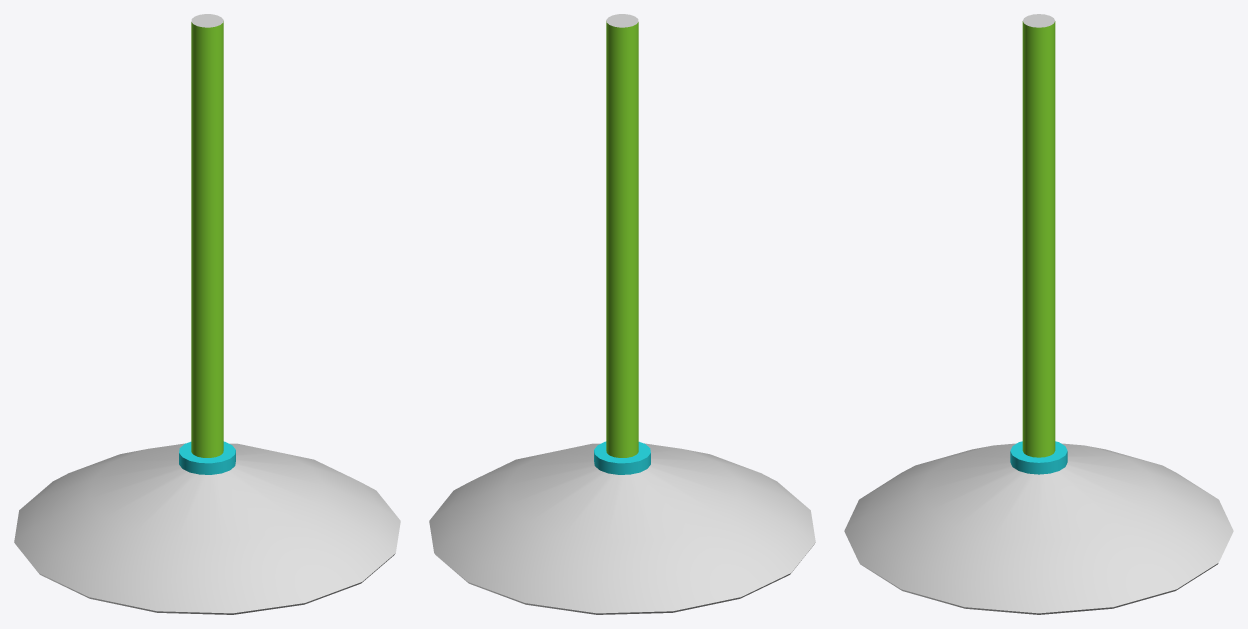
Rendered from Light.fbx.
The picture shows the model from 3 angles, left to right: view 1: azimuth 30°, elevation 25°; view 2: azimuth 150°, elevation 25°; view 3: azimuth 270°, elevation 25°; orthographic projection.
Parts seen in each view (by area): view 1: Lamp; view 2: Lamp; view 3: Lamp.
Boxes of the visible parts, x1=… form: Lamp: x1=14, y1=14, x2=400, y2=614; Lamp: x1=429, y1=14, x2=815, y2=614; Lamp: x1=844, y1=14, x2=1233, y2=614.
Bounding box in the file's own units: 23.98 × 36.92 × 23.98.
